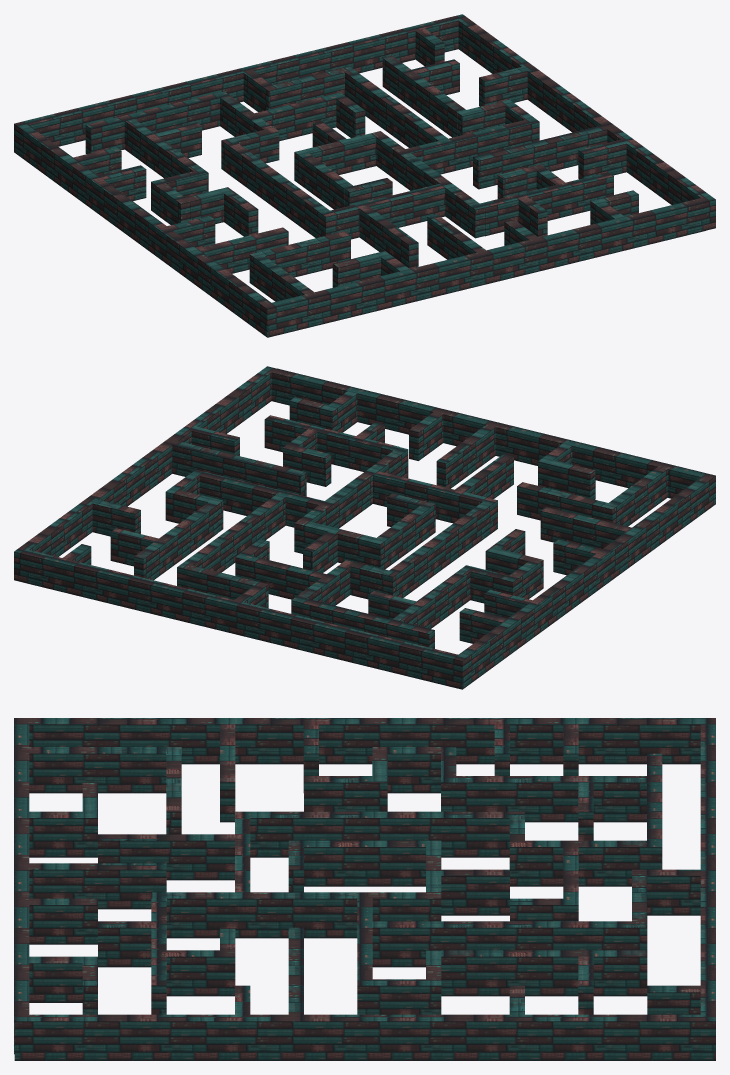
File: maze3.gltf
3 renders of one model, top to bottom at view 1: azimuth 30°, elevation 25°; view 2: azimuth 150°, elevation 25°; view 3: azimuth 270°, elevation 25°, orthographic. The views are drawn at different scales.
Parts seen in each view (by area): view 1: Curve.001; view 2: Curve.001; view 3: Curve.001.
Boxes of the visible parts, x1,y1,x2,y2 form: Curve.001: (14,14,715,337); Curve.001: (14,366,715,689); Curve.001: (14,718,715,1060).
Size of the model in its own units: 47.16 by 2.88 by 46.16.
Materials: 1 (1 with a texture image).
